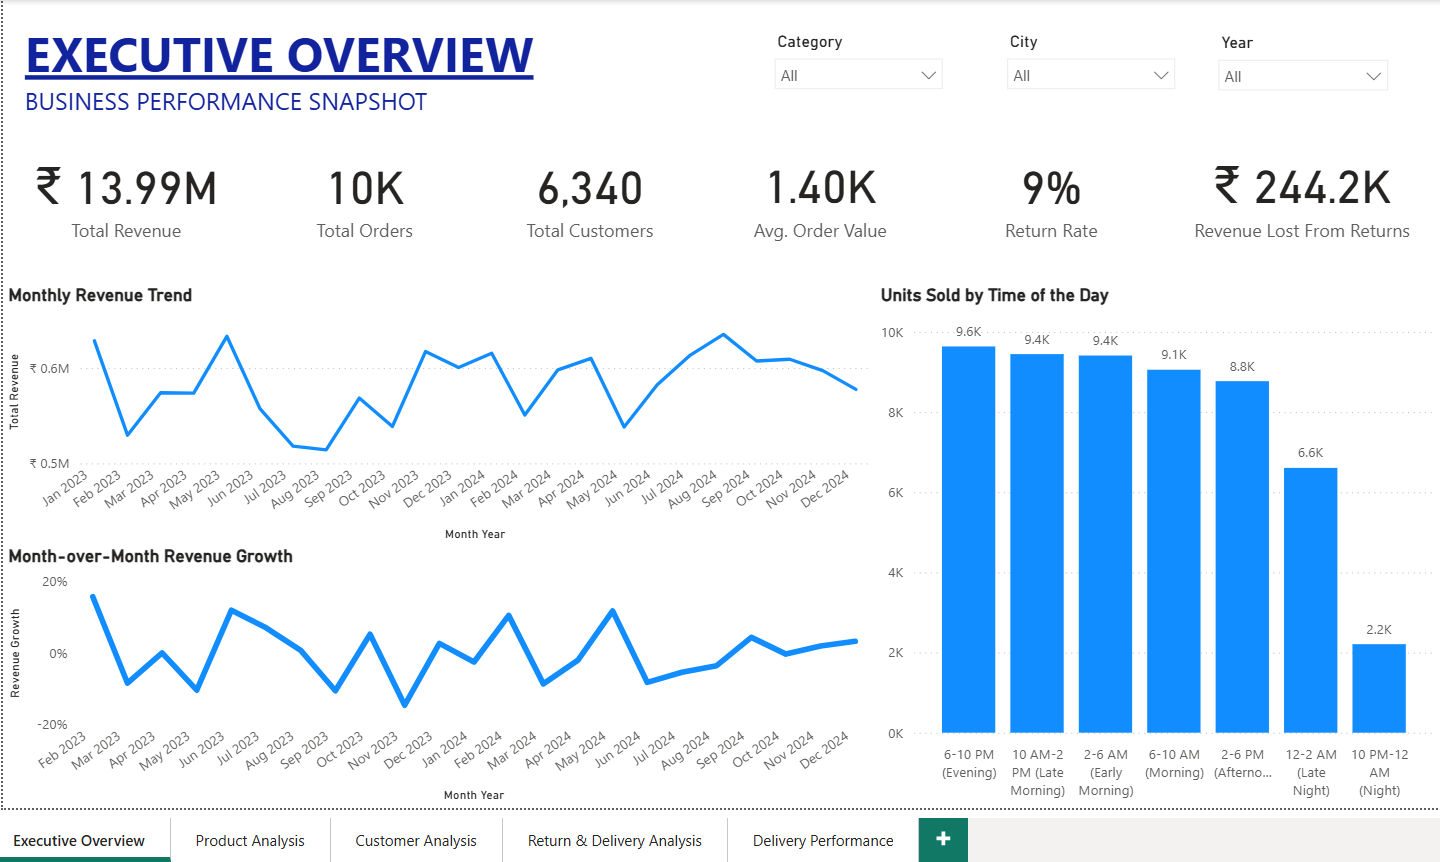

The dashboard page shown, as its layout file describes it:
{"tool":"powerbi","page":{"name":"Executive Overview","canvas":[1280,720],"ordinal":0},"visuals":[{"type":"card","fields":{"Values":["orders.Total revenue"]},"box":[14.9,95.8,190.8,156.1],"z":0},{"type":"card","fields":{"Values":["orders.Total sales"]},"box":[239.4,97.1,166,153.6],"z":1000},{"type":"card","fields":{"Values":["orders.Total customers"]},"box":[439.1,94.6,168.5,158.6],"z":2000},{"type":"card","fields":{"Values":["orders.Return rate"]},"box":[848.5,94.6,171,158.6],"z":3000},{"type":"lineChart","title":"Monthly Revenue Trend","fields":{"Y":["orders.Total revenue"],"Category":["date.Month and Year"]},"box":[0,253.8,776.5,232.8],"z":4000},{"type":"lineChart","title":"Month-over-Month Revenue Growth","fields":{"Y":["orders.Revenue Growth"],"Category":["date.Month and Year"]},"box":[0,486.7,776.5,232.8],"z":5000},{"type":"card","fields":{"Values":["orders.Average Order Value"]},"box":[641.4,94,173.5,159.8],"z":6000},{"type":"card","fields":{"Values":["orders.Revenue Lost Due to Approved Returns"]},"box":[1053.2,94,208.2,159.8],"z":7000},{"type":"textbox","box":[14.9,13.6,649.3,95.4],"z":8000},{"type":"slicer","fields":{"Values":["customer.City"]},"box":[883.5,23.5,170,75.6],"z":9000},{"type":"slicer","fields":{"Values":["product.Category"]},"box":[677.3,23.5,170,75.6],"z":10000},{"type":"slicer","fields":{"Values":["date.Year"]},"box":[1072.4,24,171.2,75.1],"z":11000},{"type":"clusteredColumnChart","title":"Units Sold by Time of the Day","fields":{"Category":["orders.Time Comment"],"Y":["orders.Units Sold"]},"box":[776.9,254,503.1,465.9],"z":12000}]}

Visuals, with their boxes on the page's 1280x720 design canvas (x1, y1, x2, y2). These are canvas units, not pixel positions in the 1440x862 screenshot, which may show the page scaled, cropped or inside an application window:
card - orders.Total revenue: x1=15 y1=96 x2=206 y2=252
card - orders.Total sales: x1=239 y1=97 x2=405 y2=251
card - orders.Total customers: x1=439 y1=95 x2=608 y2=253
card - orders.Return rate: x1=848 y1=95 x2=1020 y2=253
"Monthly Revenue Trend" lineChart: x1=0 y1=254 x2=776 y2=487
"Month-over-Month Revenue Growth" lineChart: x1=0 y1=487 x2=776 y2=720
card - orders.Average Order Value: x1=641 y1=94 x2=815 y2=254
card - orders.Revenue Lost Due to Approved Returns: x1=1053 y1=94 x2=1261 y2=254
textbox: x1=15 y1=14 x2=664 y2=109
slicer - customer.City: x1=884 y1=24 x2=1054 y2=99
slicer - product.Category: x1=677 y1=24 x2=847 y2=99
slicer - date.Year: x1=1072 y1=24 x2=1244 y2=99
"Units Sold by Time of the Day" clusteredColumnChart: x1=777 y1=254 x2=1280 y2=720
